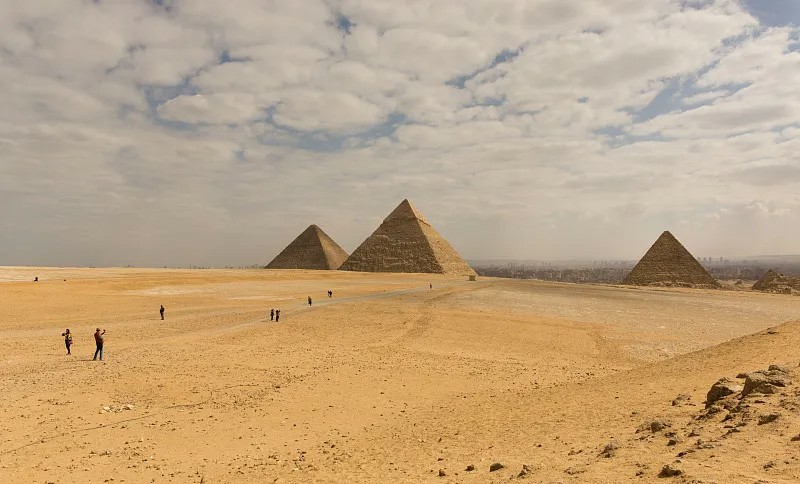Pyramid: (336, 199, 478, 277), (621, 231, 723, 291), (265, 224, 349, 270)
